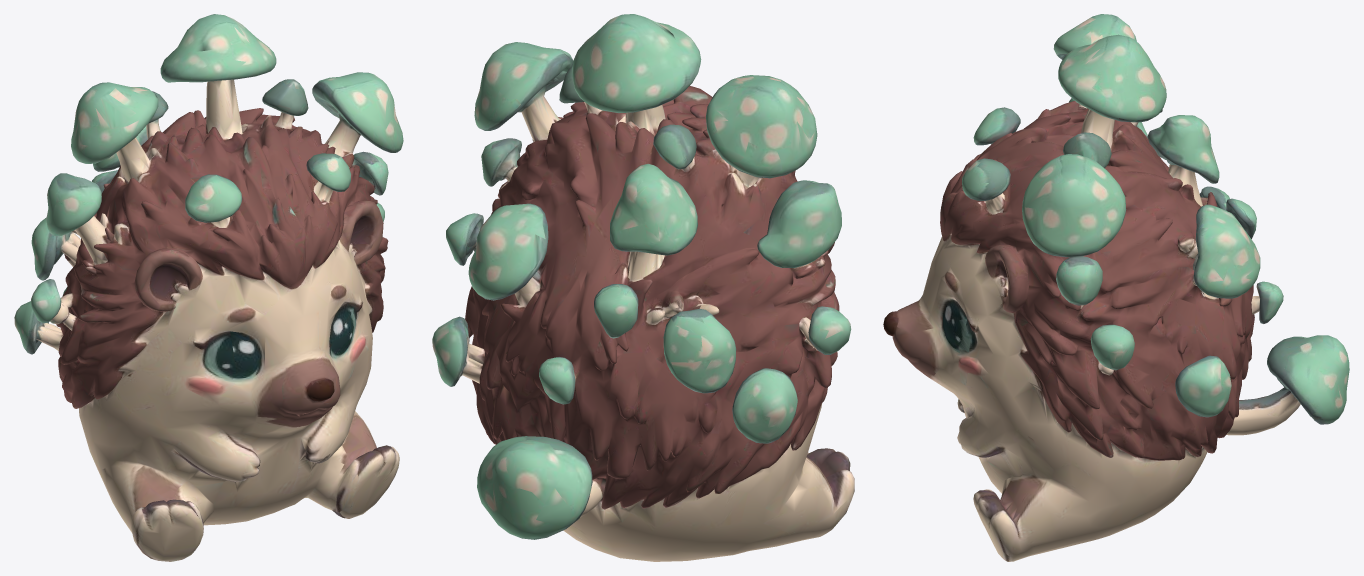
Rendered from burrlet.glb.
3 views of the same model, side by side, from view 1: azimuth 30°, elevation 25°; view 2: azimuth 150°, elevation 25°; view 3: azimuth 270°, elevation 25° (orthographic). The views are drawn at different scales.
Visible parts, largest first — view 1: Mesh_0; view 2: Mesh_0; view 3: Mesh_0.
Part boxes in pixels (x1,y1,x2,y2): Mesh_0: (14, 14, 403, 561); Mesh_0: (432, 14, 854, 561); Mesh_0: (883, 14, 1349, 561).
Size of the model in its own units: 1.47 by 1.9 by 1.67.
Materials: 1 (1 with a texture image).
